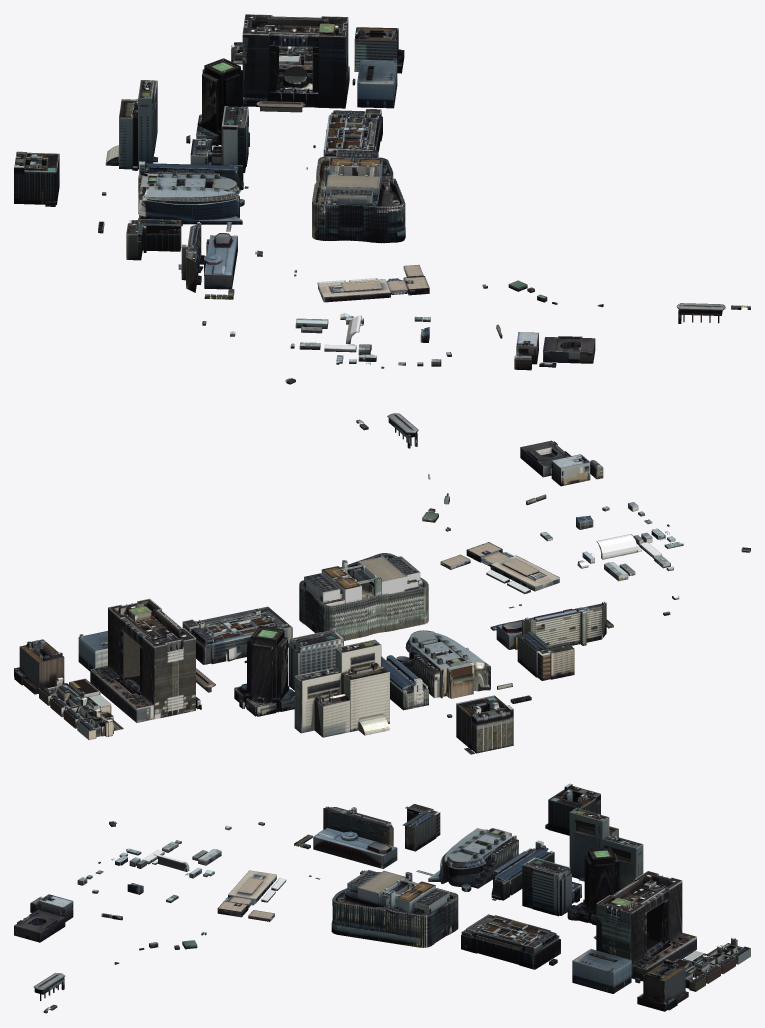
Rendered from 53393642_bldg_6677.fbx.
3 renders of one model, top to bottom at view 1: azimuth 30°, elevation 25°; view 2: azimuth 150°, elevation 25°; view 3: azimuth 270°, elevation 25°, orthographic. The views are drawn at different scales.
Parts seen in each view (by area): view 1: plateau_merged.057, plateau_merged.015, plateau_merged.010, plateau_merged.089, plateau_merged.051, plateau_merged.074, plateau_merged.026, plateau_merged.083, plateau_merged.059, plateau_merged.018, plateau_merged.001, plateau_merged.063 (+6 smaller); view 2: plateau_merged.057, plateau_merged.015, plateau_merged.089, plateau_merged.010, plateau_merged.051, plateau_merged.074, plateau_merged.027, plateau_merged.026, plateau_merged.023, plateau_merged.059, plateau_merged.001, plateau_merged.017 (+8 smaller); view 3: plateau_merged.015, plateau_merged.057, plateau_merged.074, plateau_merged.010, plateau_merged.089, plateau_merged.001, plateau_merged.051, plateau_merged.063, plateau_merged.018, plateau_merged.027, plateau_merged.017, plateau_merged.023 (+7 smaller).
Part boxes in pixels (x1,y1,x2,y2): plateau_merged.057: (242, 14, 349, 108); plateau_merged.015: (312, 150, 405, 243); plateau_merged.010: (138, 171, 244, 231); plateau_merged.089: (119, 80, 157, 170); plateau_merged.051: (196, 58, 249, 146); plateau_merged.074: (323, 109, 382, 156); plateau_merged.026: (14, 151, 59, 204); plateau_merged.083: (318, 276, 429, 302); plateau_merged.059: (126, 219, 182, 260); plateau_merged.018: (357, 58, 397, 108); plateau_merged.001: (212, 106, 248, 172); plateau_merged.063: (204, 233, 237, 289); plateau_merged.057: (90, 598, 195, 722); plateau_merged.015: (299, 553, 428, 640); plateau_merged.089: (294, 639, 389, 737); plateau_merged.010: (396, 630, 490, 698); plateau_merged.051: (234, 626, 294, 716); plateau_merged.074: (182, 606, 292, 664); plateau_merged.027: (39, 677, 123, 740); plateau_merged.026: (456, 695, 513, 753); plateau_merged.023: (522, 601, 606, 646); plateau_merged.059: (517, 631, 574, 680); plateau_merged.001: (288, 630, 343, 690); plateau_merged.017: (14, 639, 64, 694); plateau_merged.015: (331, 870, 458, 947); plateau_merged.057: (596, 871, 696, 981); plateau_merged.074: (461, 914, 560, 969); plateau_merged.010: (416, 828, 518, 891); plateau_merged.089: (569, 808, 643, 889); plateau_merged.001: (522, 857, 571, 916); plateau_merged.051: (567, 847, 619, 925); plateau_merged.063: (313, 828, 397, 868); plateau_merged.018: (572, 949, 631, 993); plateau_merged.027: (674, 937, 750, 991); plateau_merged.017: (637, 959, 688, 1011); plateau_merged.023: (323, 806, 393, 846).
Bounding box in the file's own units: 65580 × 11003 × 104068.
91 materials, 91 textured.
